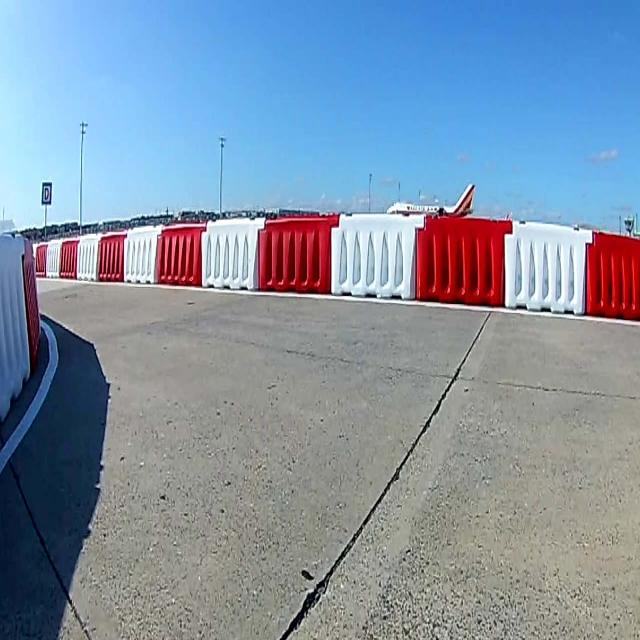durak: (43, 183, 51, 205)
